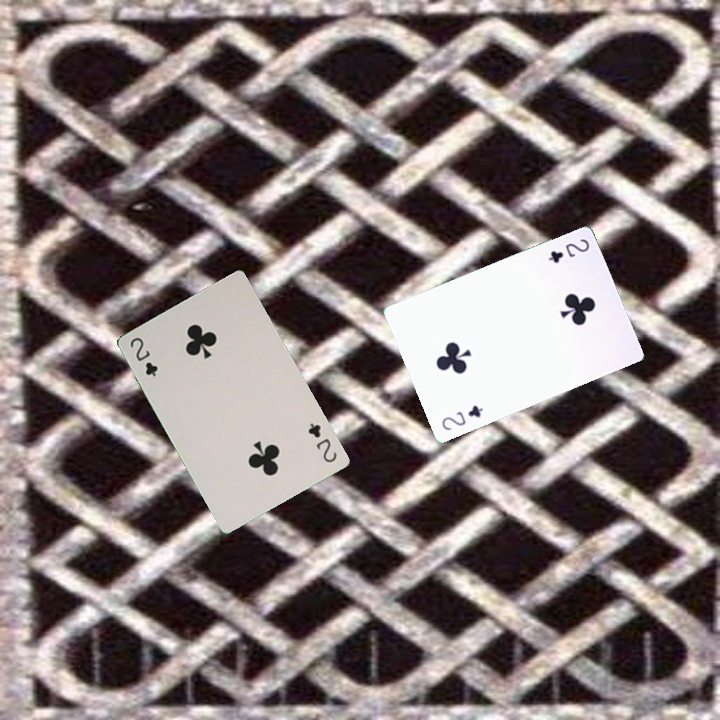2c: (304, 419, 340, 465), (437, 401, 486, 433), (126, 333, 160, 379), (544, 235, 592, 266)
